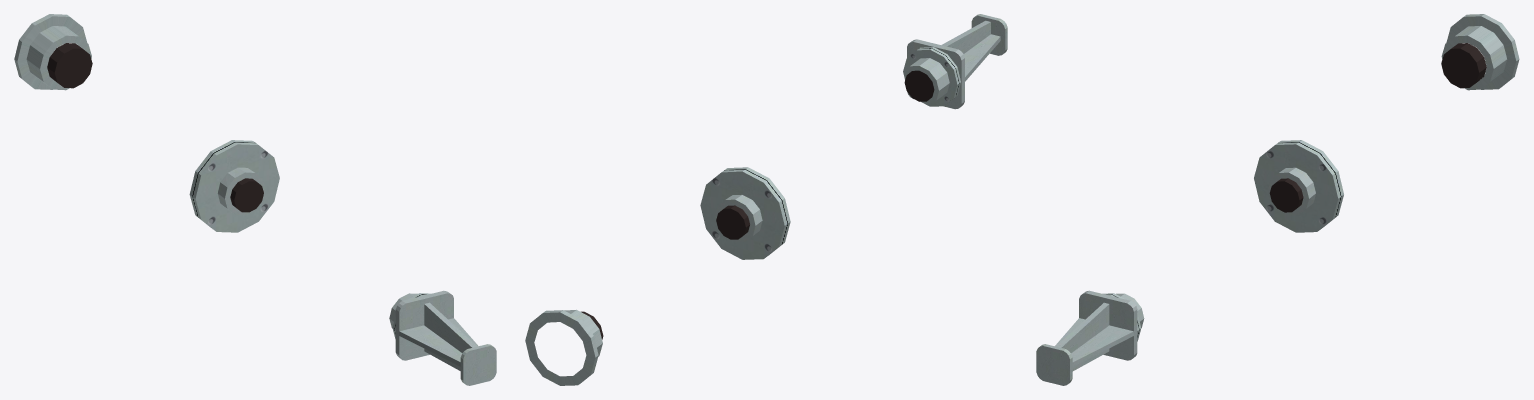
The model's file is btzz002-geode.glb.
The picture shows the model from 3 angles, left to right: view 1: azimuth 30°, elevation 25°; view 2: azimuth 150°, elevation 25°; view 3: azimuth 330°, elevation 25°; orthographic projection.
Visible parts, largest first — view 1: Node; view 2: Node; view 3: Node.
Boxes of the visible parts, left/top/right/bottom form: Node: left=14, top=14, right=496, bottom=385; Node: left=525, top=14, right=1007, bottom=385; Node: left=1036, top=14, right=1519, bottom=385.
Bounding box in the file's own units: 0.2946 × 0.2946 × 2.6.
Materials: 4 (4 with a texture image).
